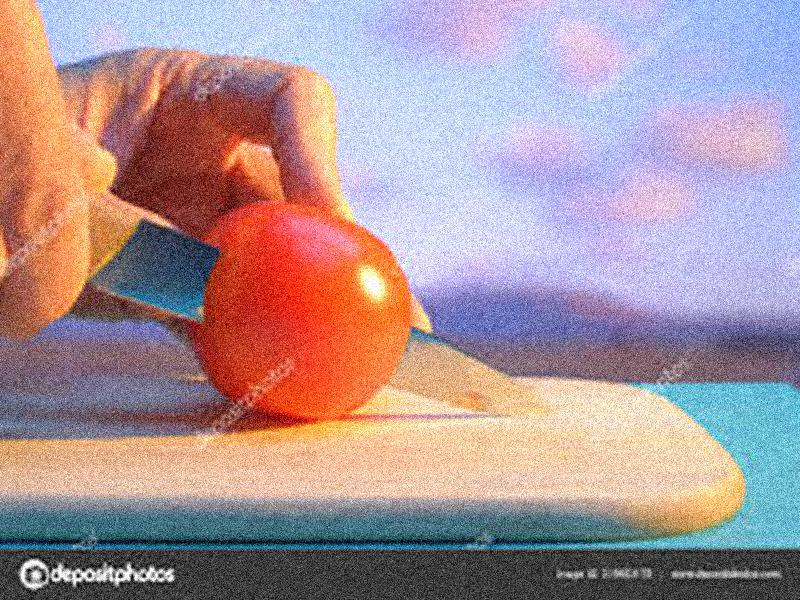Tomato: (189, 204, 414, 424)
